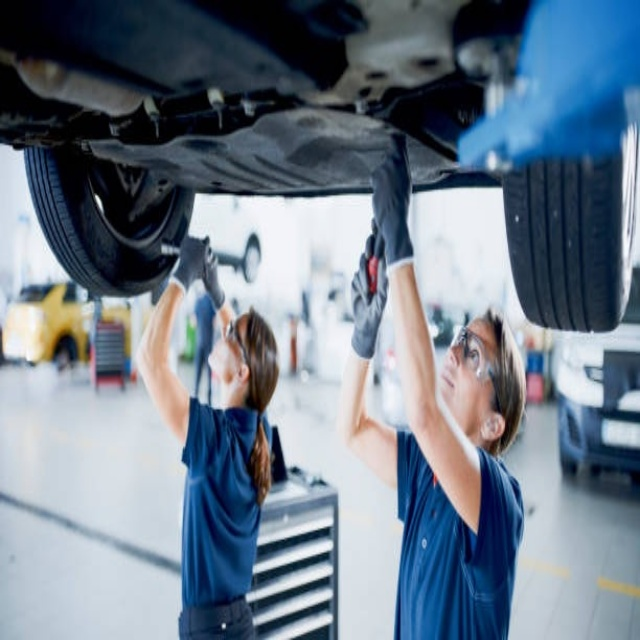Gafas: (455, 327, 504, 412), (226, 318, 249, 372)
Guantes: (368, 132, 415, 273), (345, 242, 387, 361), (170, 233, 223, 308)
Sin_mascara: (437, 353, 467, 404)
